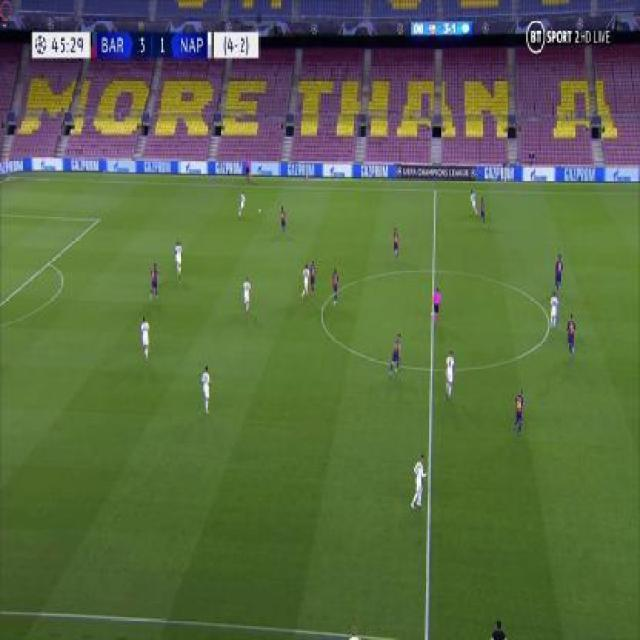ball: (257, 206, 262, 214)
player: (408, 452, 427, 511), (511, 387, 527, 436), (388, 329, 404, 377), (199, 362, 213, 413), (444, 346, 457, 400), (147, 262, 164, 302), (565, 311, 579, 357), (138, 312, 151, 360), (553, 251, 564, 293), (549, 290, 560, 332), (432, 286, 443, 326), (242, 273, 253, 313), (173, 237, 184, 277), (330, 265, 341, 305), (299, 262, 310, 301), (309, 258, 318, 297), (236, 188, 247, 219), (392, 225, 400, 261), (469, 187, 478, 218), (278, 203, 287, 234), (479, 194, 487, 228), (244, 153, 252, 184)
